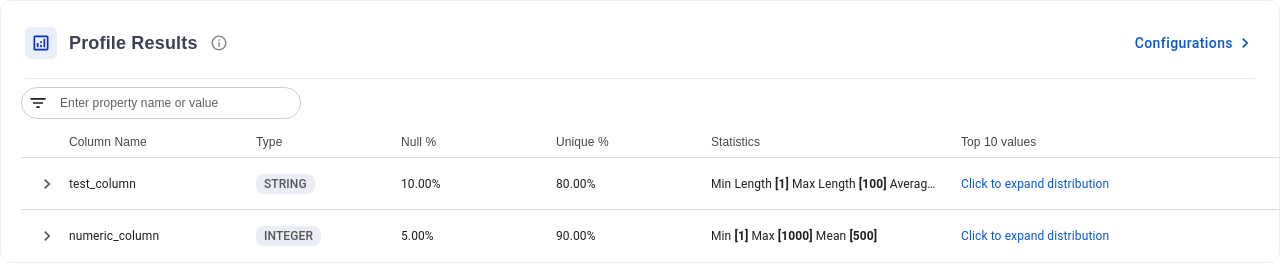
it: DataProfile › handles sorting functionality
// Click header to sort — data remains visible
Step 1. Click the button "Column Name" → (108, 142), box [69,134,147,148]
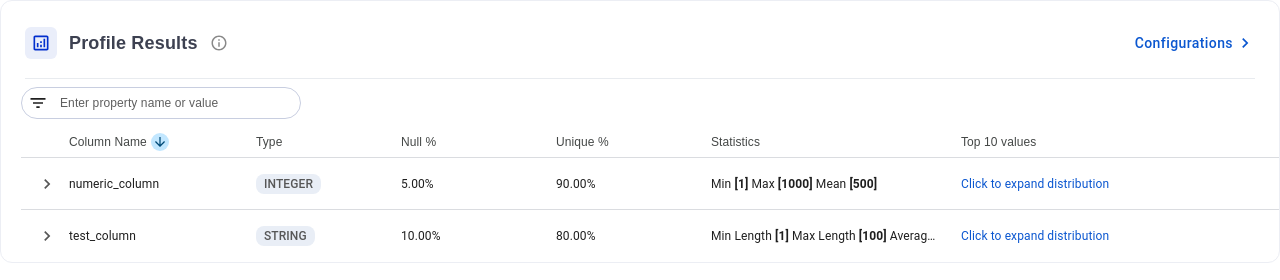
Now the text "test_column" is shown, box [69,228,136,242]
Now the text "numeric_column" is shown, box [69,176,159,190]
